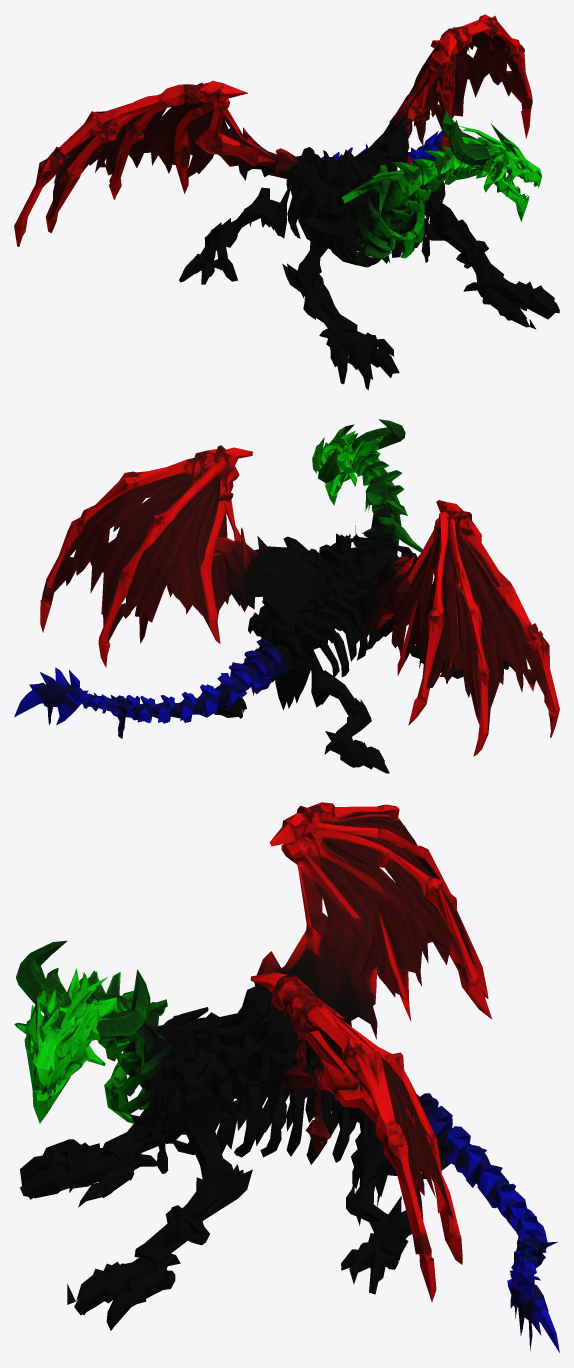
Rendered from wyrm.glb.
3 renders of one model, top to bottom at view 1: azimuth 30°, elevation 25°; view 2: azimuth 150°, elevation 25°; view 3: azimuth 270°, elevation 25°, orthographic. The views are drawn at different scales.
Bounding box in the file's own units: 8.73 × 4 × 5.86.
Materials: 1 (1 with a texture image).
